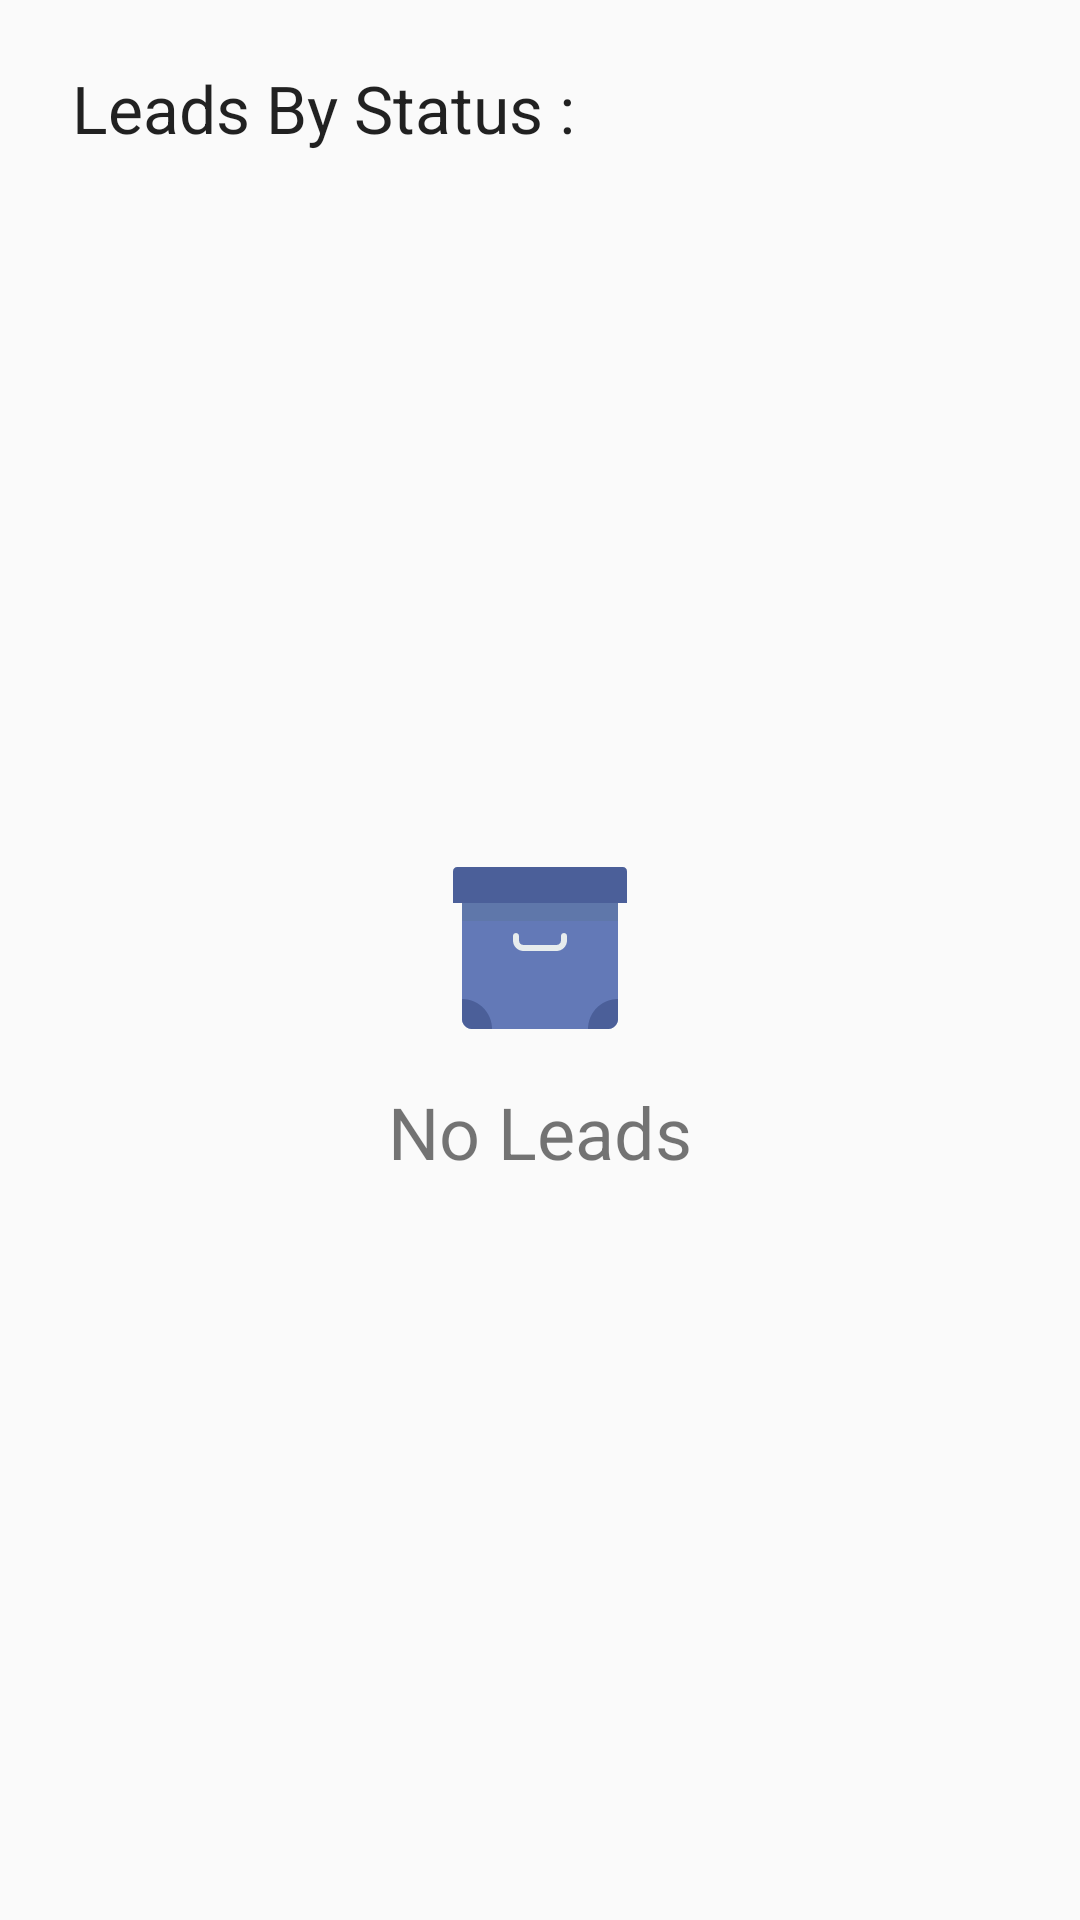

Screen size 1080x1920. Icon name, then its center in pixels as [x,y]:
empty bin: [540,948]
